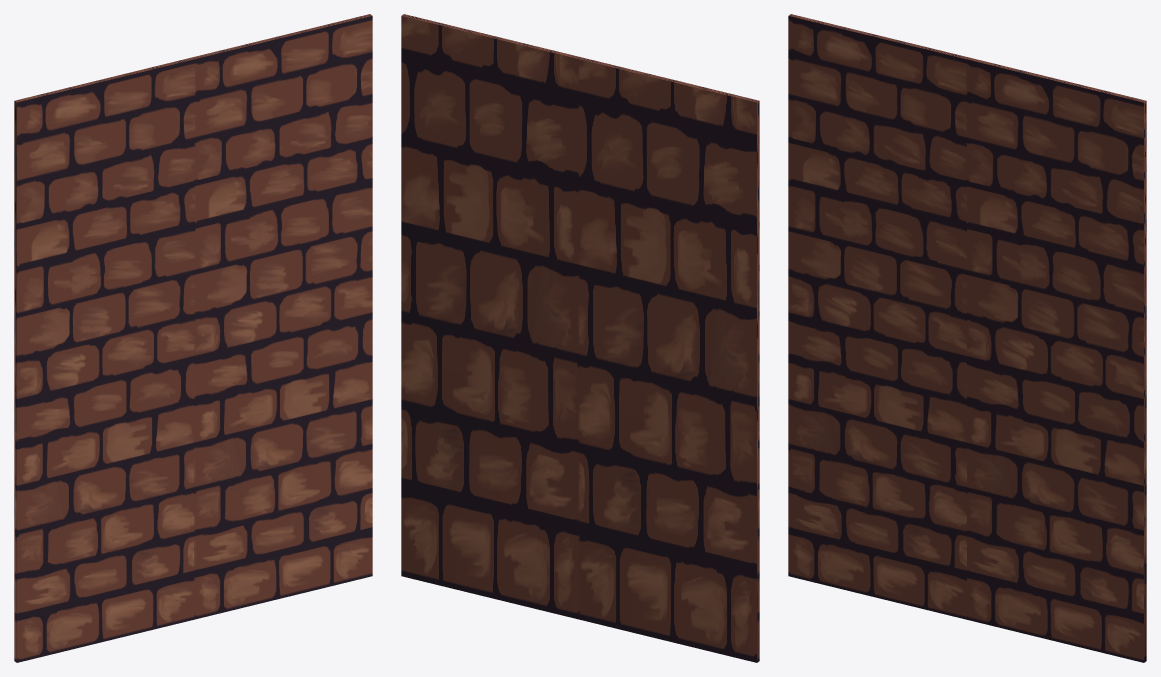
File: Brickx2.fbx
3 renders of one model, left to right at view 1: azimuth 30°, elevation 25°; view 2: azimuth 150°, elevation 25°; view 3: azimuth 330°, elevation 25°, orthographic.
Parts seen in each view (by area): view 1: pCube3; view 2: pCube3; view 3: pCube3.
Part boxes in pixels (box(x1,y1,x2,y2)): pCube3: box(14, 14, 372, 662); pCube3: box(401, 14, 759, 662); pCube3: box(788, 14, 1146, 662).
Bounding box in the file's own units: 1.99 × 3 × 0.025.
1 material, 1 textured.
